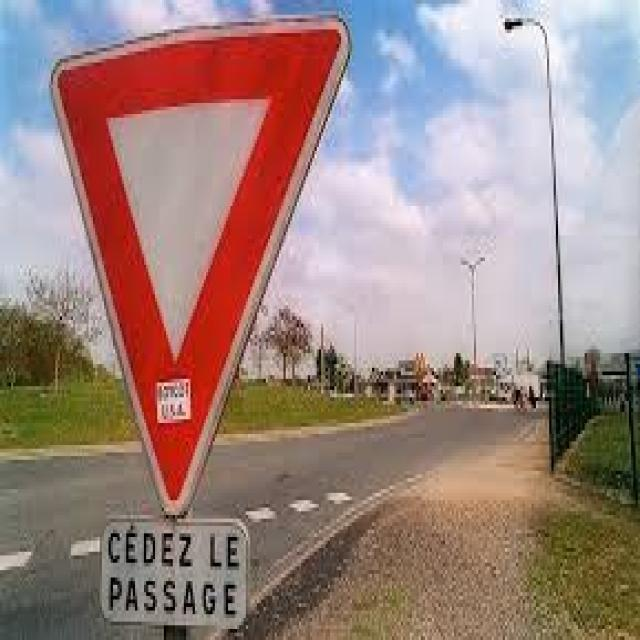Ceder-le-Passage: (48, 10, 353, 518)
